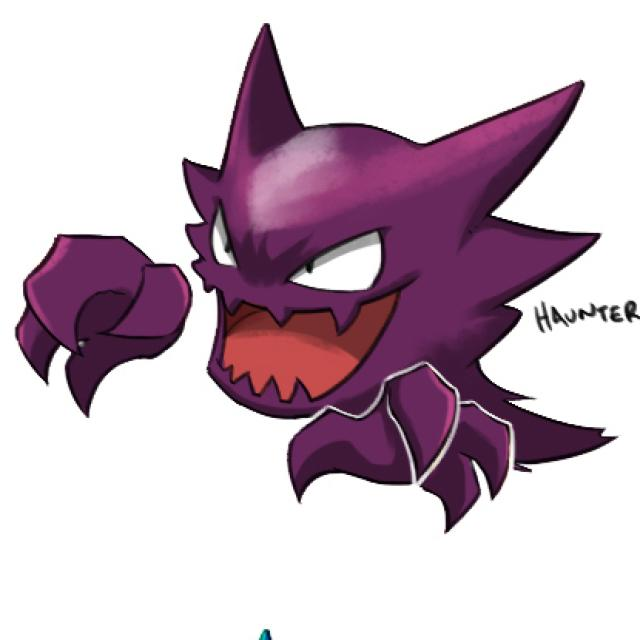Haunter: (34, 94, 592, 498)
